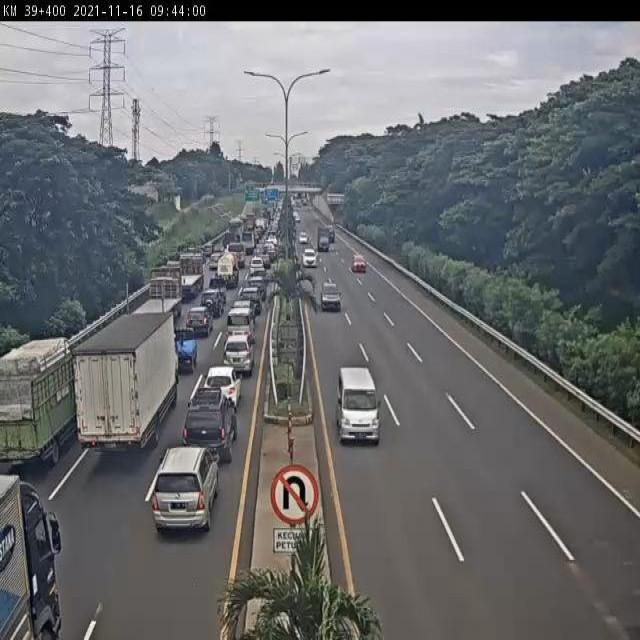car: (152, 446, 222, 534), (184, 391, 238, 460), (337, 366, 381, 442), (205, 365, 243, 404), (172, 324, 197, 371), (222, 338, 253, 373), (227, 309, 253, 344), (200, 287, 224, 317), (238, 287, 262, 316), (189, 305, 209, 336), (322, 282, 343, 310), (208, 276, 228, 301), (233, 301, 253, 324), (246, 277, 266, 299), (351, 252, 366, 276), (303, 248, 318, 269), (249, 257, 265, 276), (260, 252, 272, 269)
small truck: (227, 241, 247, 267)
truck-l-: (125, 266, 183, 314), (171, 252, 204, 297)
truck-m-: (77, 313, 178, 463), (0, 334, 85, 466), (212, 251, 239, 285)
